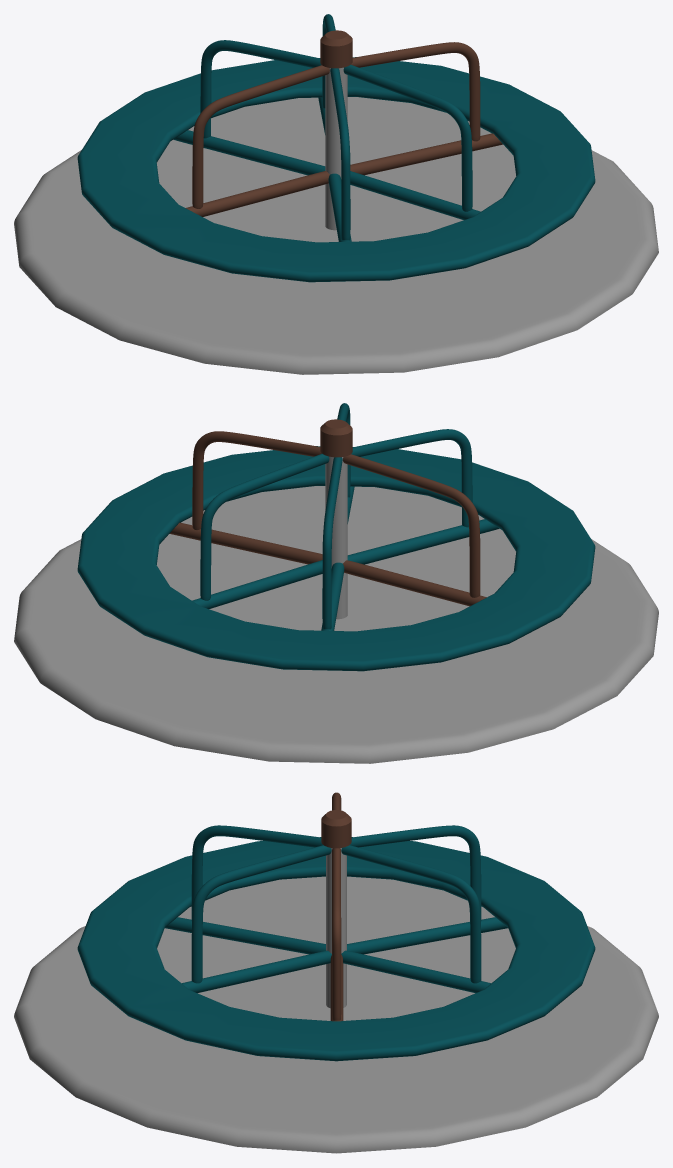
File: Gira gira.fbx
3 views of the same model, one above another, from view 1: azimuth 30°, elevation 25°; view 2: azimuth 150°, elevation 25°; view 3: azimuth 270°, elevation 25° (orthographic).
Parts seen in each view (by area): view 1: Circle.007, Cylinder.013, Cylinder.012; view 2: Circle.007, Cylinder.013, Cylinder.012; view 3: Circle.007, Cylinder.013, Cylinder.012.
Boxes of the visible parts, x1,y1,x2,y2 form: Circle.007: (14, 30, 658, 374); Cylinder.013: (173, 14, 480, 241); Cylinder.012: (185, 42, 502, 216); Circle.007: (14, 419, 658, 763); Cylinder.013: (192, 403, 499, 630); Cylinder.012: (169, 431, 486, 606); Circle.007: (14, 810, 658, 1153); Cylinder.013: (165, 825, 507, 993); Cylinder.012: (330, 792, 343, 1021).
Bounding box in the file's own units: 5867 × 2032 × 5867.
